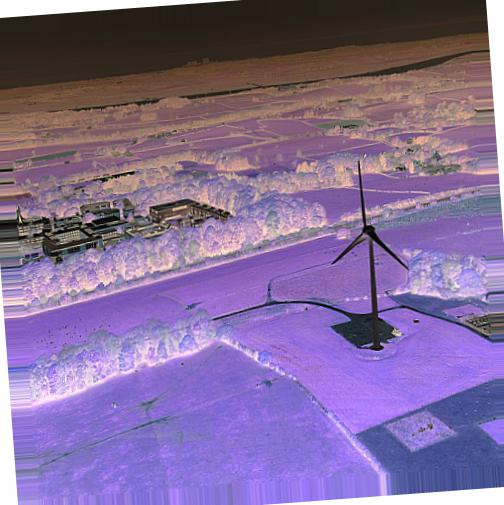wind turbine: (330, 160, 410, 349)
